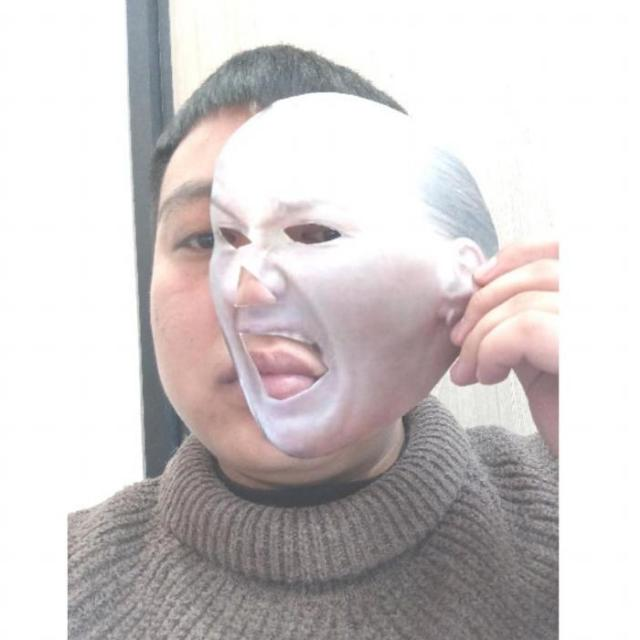mask: (210, 89, 506, 454)
